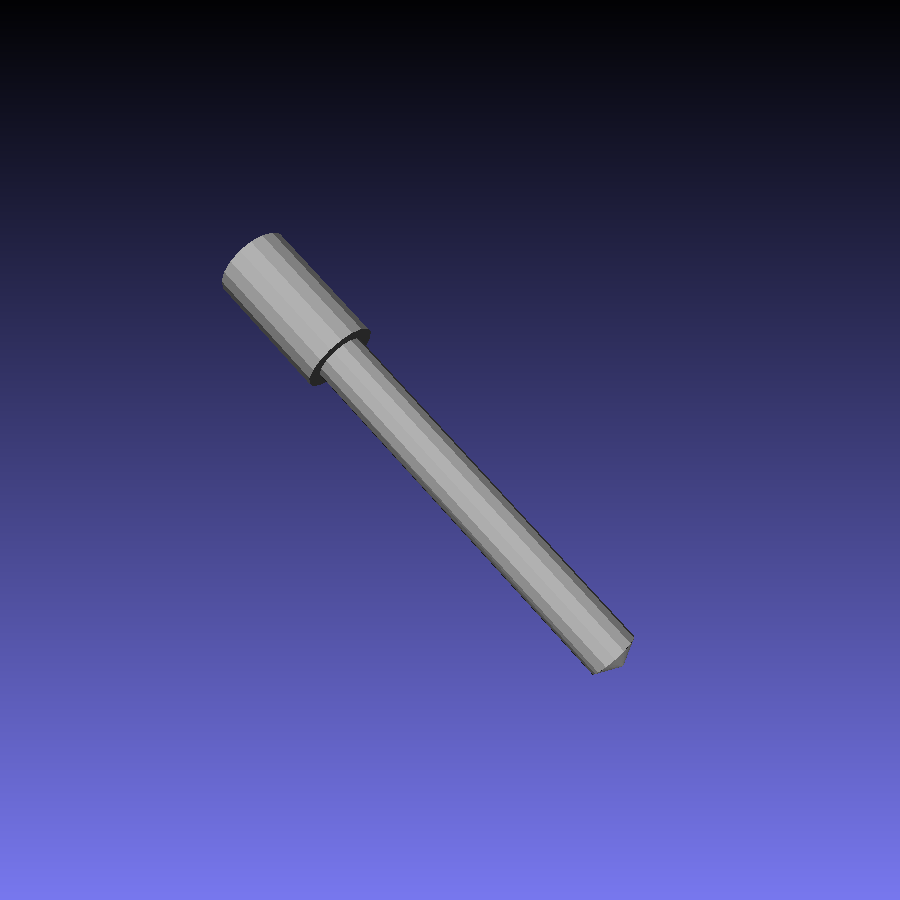cargo_g: (221, 232, 636, 675)
